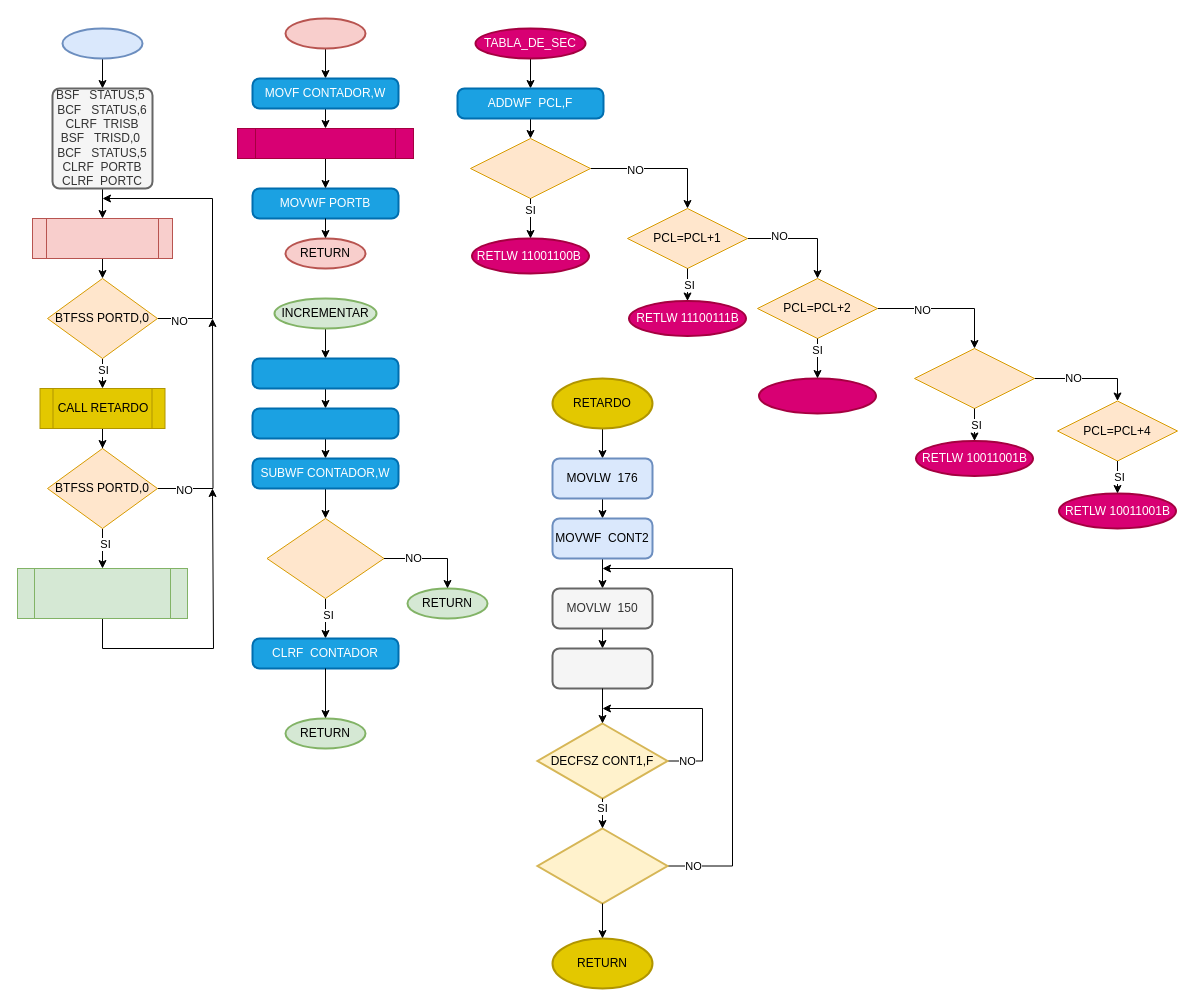
Some shapes in this 1195 by 1006 pixel diagram are drawn without their labels. Each missing label, with the centre of its shape:
"BTFSS STATUS,2" belongs at point 325,558.
"CALL INCREMENTAR" belongs at point 102,593.
"CALL TABLA_DE_SEC" belongs at point 325,143.
"CALL VISUALIZAR" belongs at point 102,238.
"DECFSZ CONT2,F" belongs at point 602,865.
"INCF CONTADOR,F" belongs at point 325,373.
"INICIO" belongs at point 102,43.
"MOVLW 5" belongs at point 325,423.
"MOVWF CONT1" belongs at point 602,668.
"PCL=PCL+0" belongs at point 530,168.
"PCL=PCL+3" belongs at point 974,378.
"RETLW 10101010B" belongs at point 817,395.
"VISUALIZAR" belongs at point 325,33.
